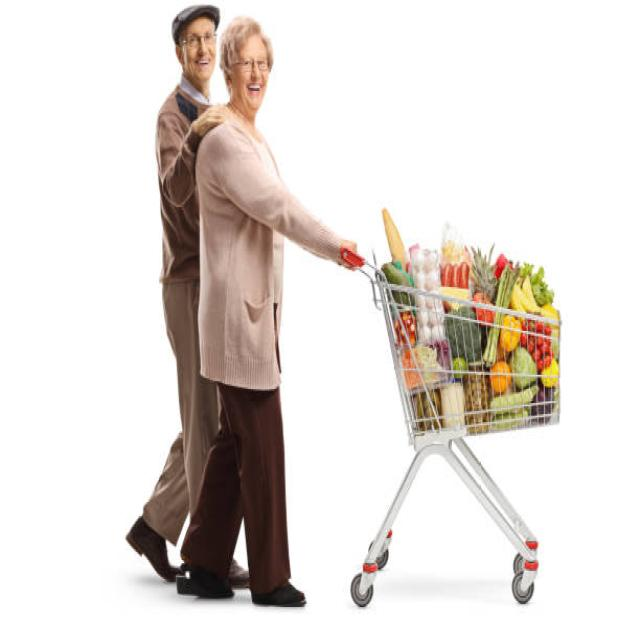Person: (180, 17, 358, 608), (126, 2, 251, 586)
